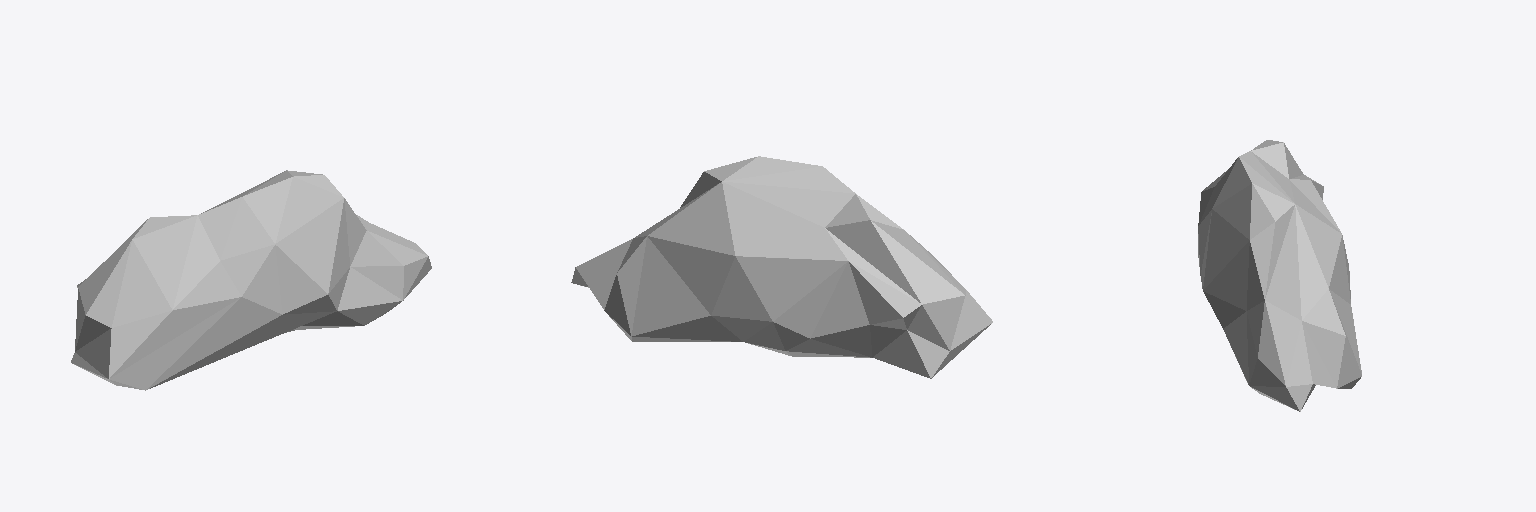
Rendered from Cloud6.obj.
3 views of the same model, side by side, from view 1: azimuth 30°, elevation 25°; view 2: azimuth 150°, elevation 25°; view 3: azimuth 270°, elevation 25° (orthographic).
Visible parts, largest first — view 1: Cloud6_Object_92_Object_44.001; view 2: Cloud6_Object_92_Object_44.001; view 3: Cloud6_Object_92_Object_44.001.
Part boxes in pixels (left/top/right/bottom): Cloud6_Object_92_Object_44.001: left=71, top=170, right=431, bottom=390; Cloud6_Object_92_Object_44.001: left=571, top=156, right=992, bottom=378; Cloud6_Object_92_Object_44.001: left=1198, top=140, right=1361, bottom=411.
Bounding box in the file's own units: 1.68 × 0.7208 × 0.6411.